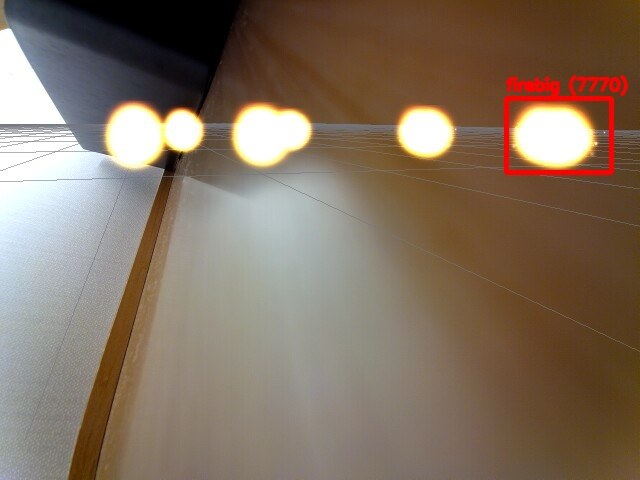firebig: (506, 98, 611, 172)
